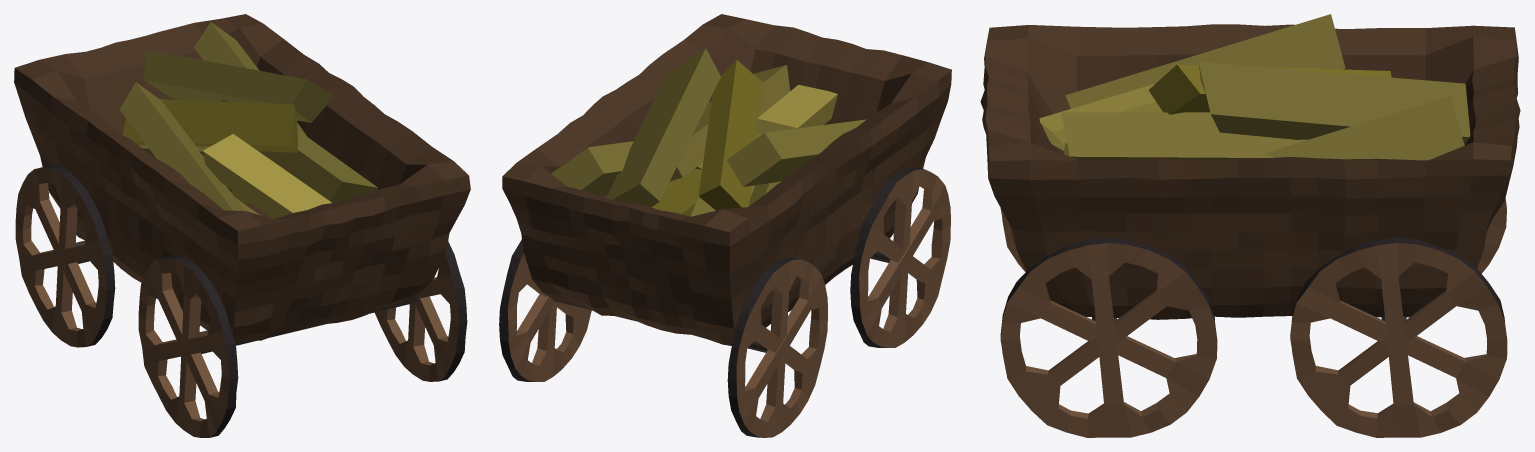
The model's file is Kutsche_Gold.fbx.
3 renders of one model, left to right at view 1: azimuth 30°, elevation 25°; view 2: azimuth 150°, elevation 25°; view 3: azimuth 270°, elevation 25°, orthographic. The views are drawn at different scales.
Parts seen in each view (by area): view 1: Cube, Circle.003, Circle, Cube.008, Circle.002, Cube.005, Cube.009, Cube.007, Cube.006, Cube.010; view 2: Cube, Circle.003, Circle, Cube.008, Circle.001, Cube.005, Cube.007, Cube.010, Cube.009, Cube.006, Cube.002, Cube.003; view 3: Cube, Circle.001, Circle.002, Cube.008, Cube.006, Cube.010, Cube.007, Cube.005, Cube.009, Circle.
Part boxes in pixels (x1=…): Cube: x1=14, y1=14, x2=470, y2=343; Circle.003: x1=138, y1=255, x2=238, y2=437; Circle: x1=15, y1=165, x2=115, y2=347; Cube.008: x1=143, y1=50, x2=334, y2=122; Circle.002: x1=375, y1=241, x2=467, y2=381; Cube.005: x1=122, y1=99, x2=297, y2=152; Cube.009: x1=202, y1=134, x2=331, y2=219; Cube.007: x1=119, y1=82, x2=244, y2=210; Cube.006: x1=221, y1=100, x2=377, y2=202; Cube.010: x1=194, y1=22, x2=307, y2=136; Cube: x1=502, y1=14, x2=951, y2=345; Circle.003: x1=850, y1=167, x2=950, y2=347; Circle: x1=727, y1=257, x2=827, y2=437; Cube.008: x1=606, y1=48, x2=720, y2=207; Circle.001: x1=499, y1=239, x2=591, y2=381; Cube.005: x1=698, y1=60, x2=763, y2=210; Cube.007: x1=726, y1=119, x2=866, y2=186; Cube.010: x1=551, y1=141, x2=633, y2=195; Cube.009: x1=756, y1=84, x2=837, y2=133; Cube.006: x1=670, y1=65, x2=790, y2=181; Cube.002: x1=651, y1=168, x2=701, y2=216; Cube.003: x1=690, y1=133, x2=769, y2=216; Cube: x1=980, y1=24, x2=1520, y2=319; Circle.001: x1=1290, y1=237, x2=1507, y2=437; Circle.002: x1=1000, y1=237, x2=1217, y2=437; Cube.008: x1=1198, y1=61, x2=1470, y2=144; Cube.006: x1=1061, y1=112, x2=1307, y2=160; Cube.010: x1=1265, y1=96, x2=1464, y2=160; Cube.007: x1=1065, y1=14, x2=1345, y2=108; Cube.005: x1=1148, y1=64, x2=1391, y2=114; Cube.009: x1=1039, y1=83, x2=1162, y2=150; Circle: x1=1477, y1=198, x2=1506, y2=273.
Size of the model in its own units: 486 by 546 by 800.
